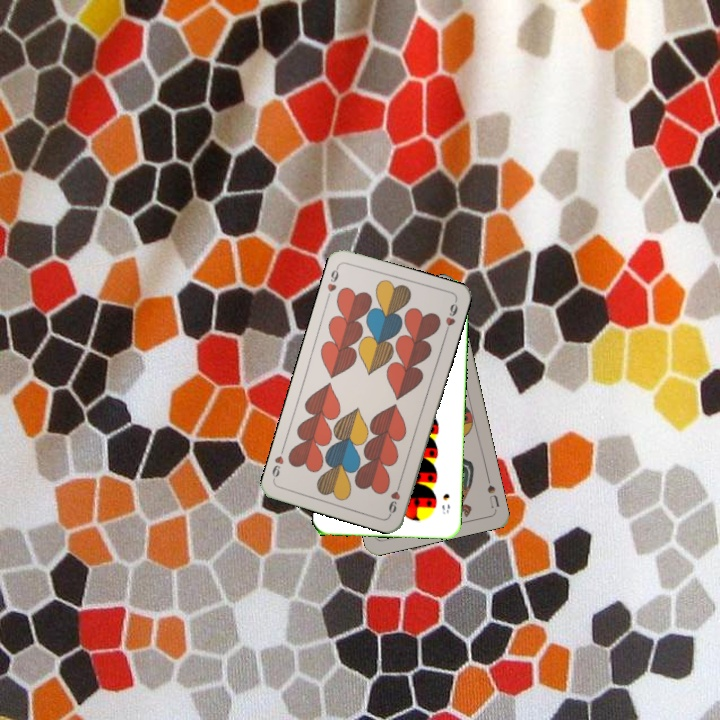H9: (384, 478, 404, 517), (323, 262, 341, 294)
S8: (438, 490, 452, 517)
SU: (483, 472, 502, 512)
